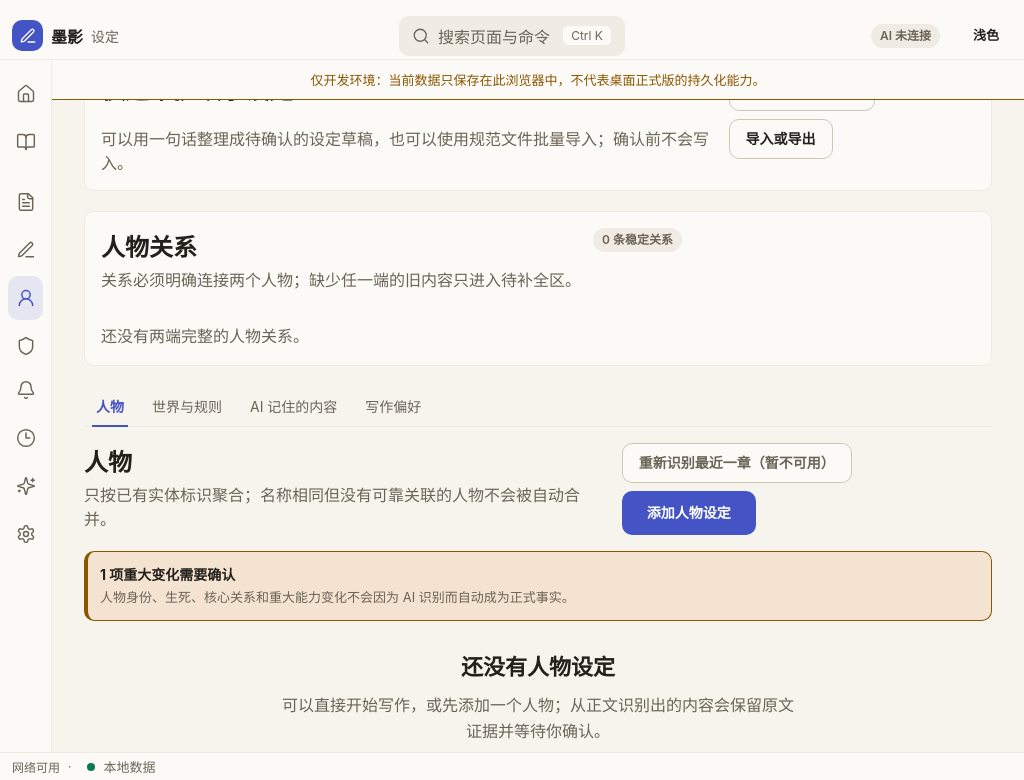
StoryGovernancePage › does not render raw structured values when a fact has no display text
The width and height of the screenshot is (1024, 780).
(page scrolled)
Click the tab "世界与规则". click: (187,406)
box: [140,386,234,426]
(page scrolled)
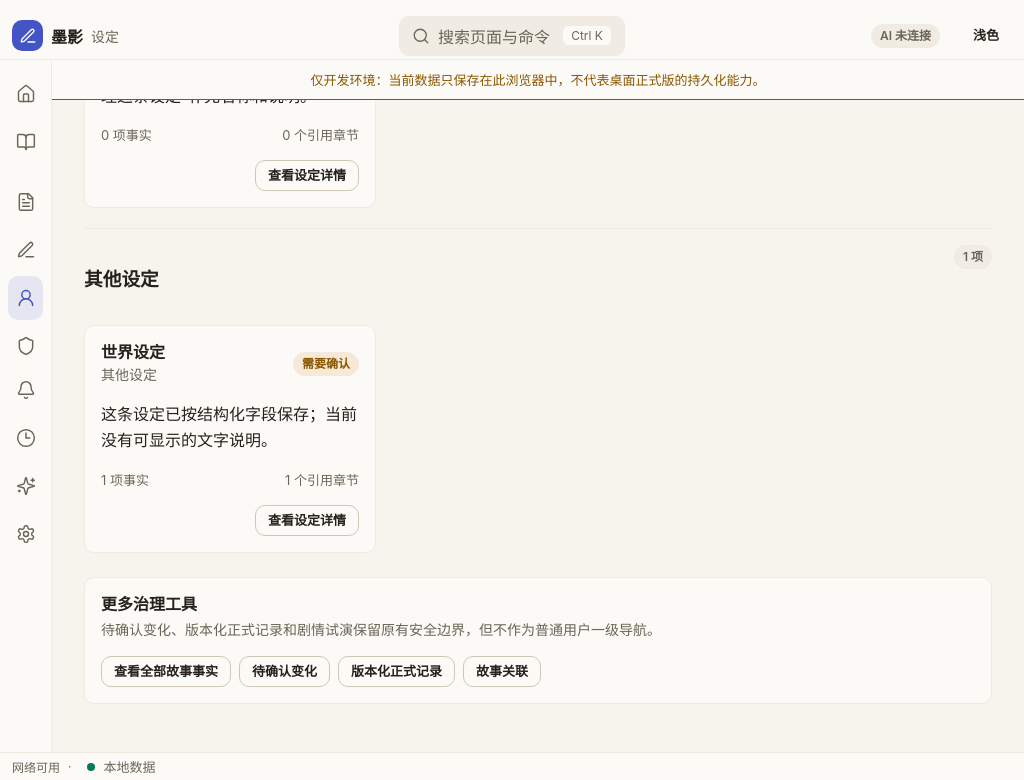
Click the button "查看全部故事事实". click: (166,672)
box: [101,656,231,687]
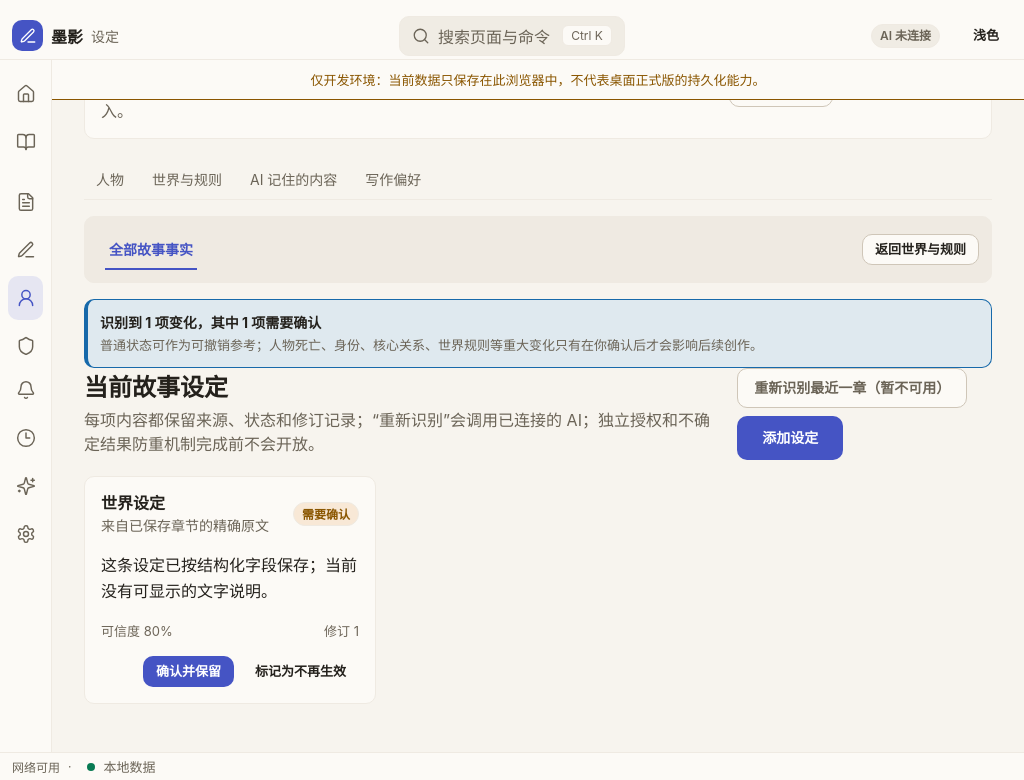
Click the button "返回世界与规则". click: (920,249)
box: [862,234,979,265]
(page scrolled)
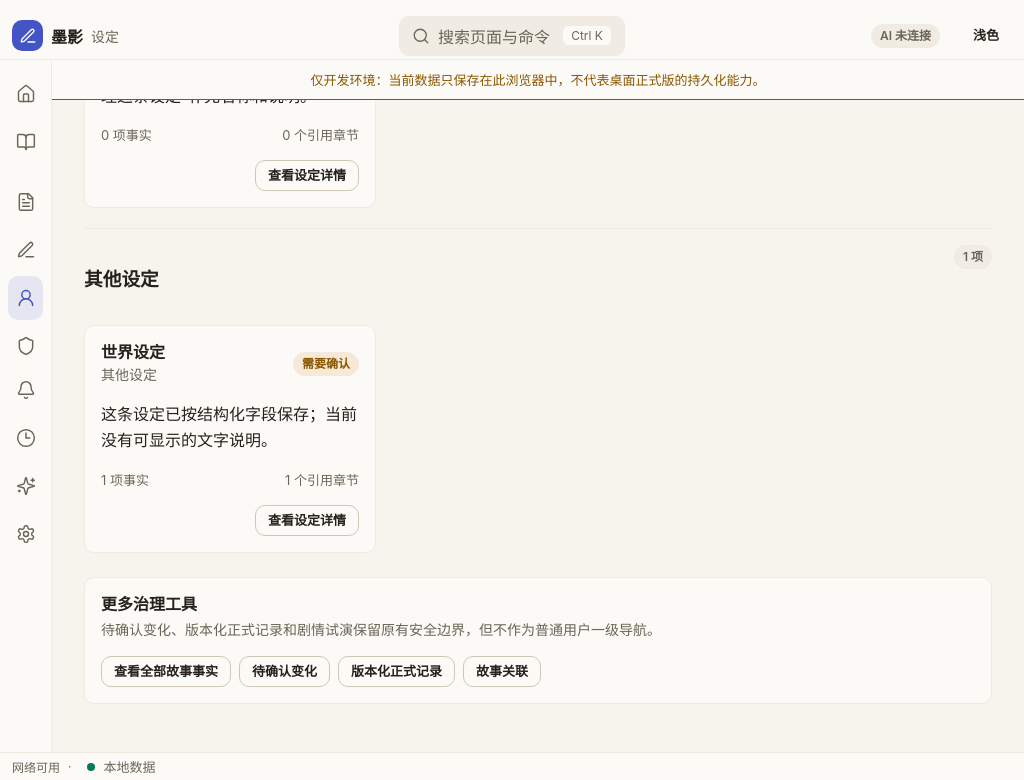
Click the button "版本化正式记录". click: (396,672)
box: [338,656,455,687]
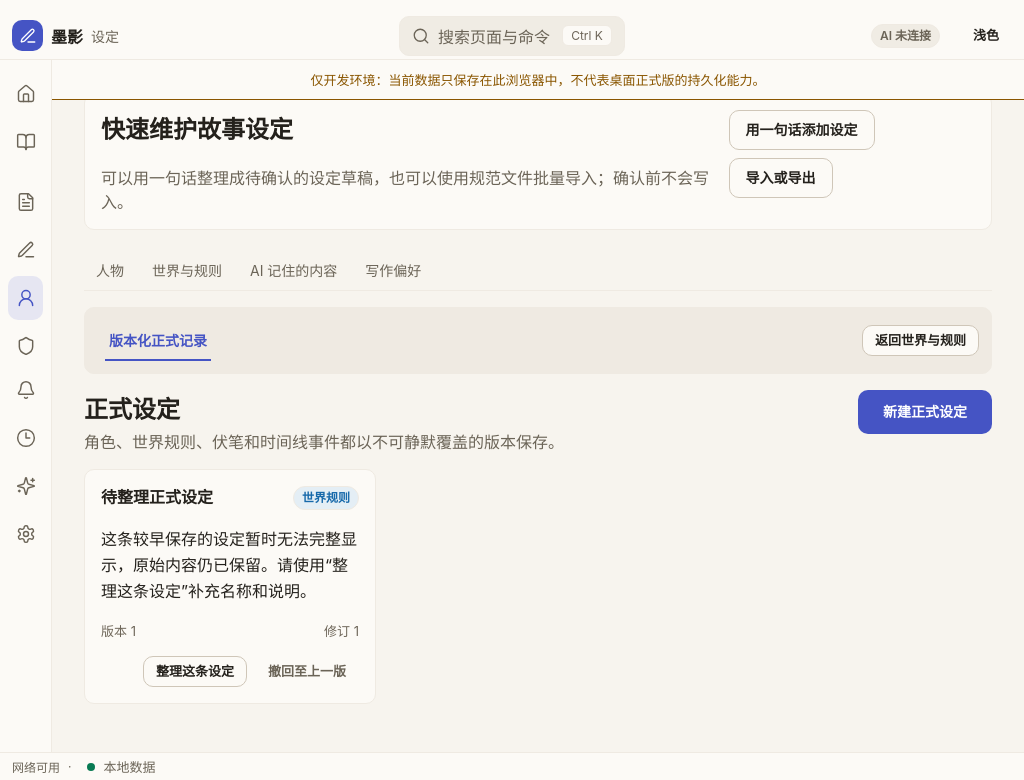
Check: the button "整理这条设定" is shown, box [143,656,247,687]
